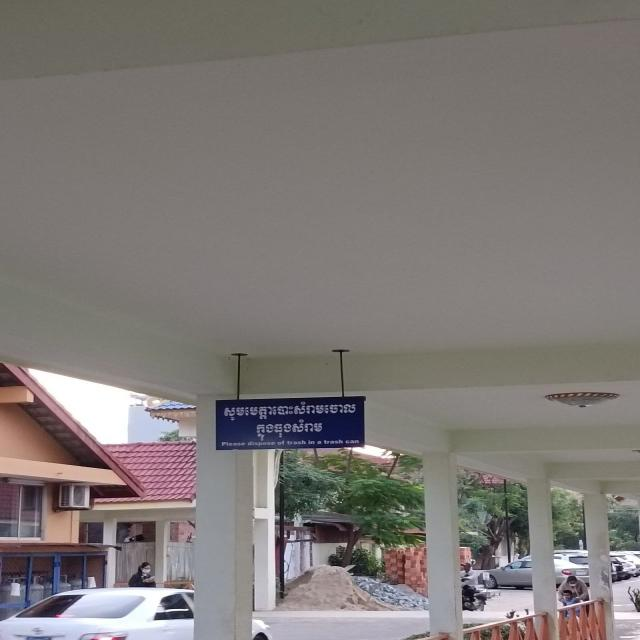Yolov11_80vkh: (219, 398, 362, 422), (251, 417, 325, 441)
